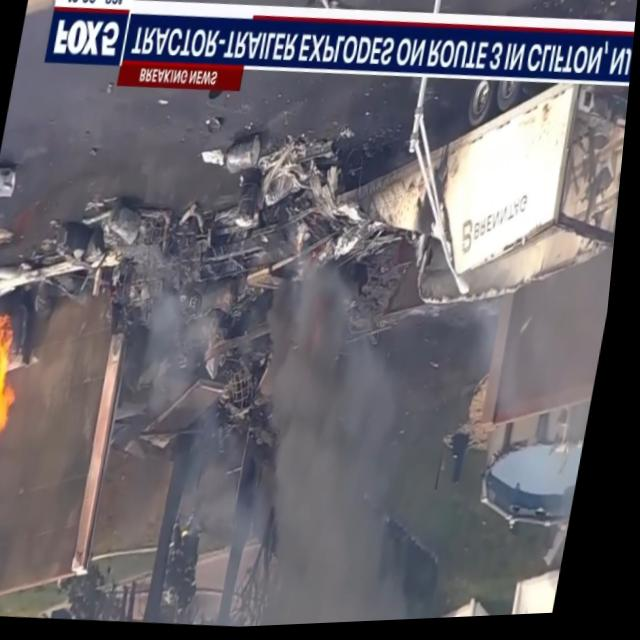Fire: (0, 309, 41, 445)
